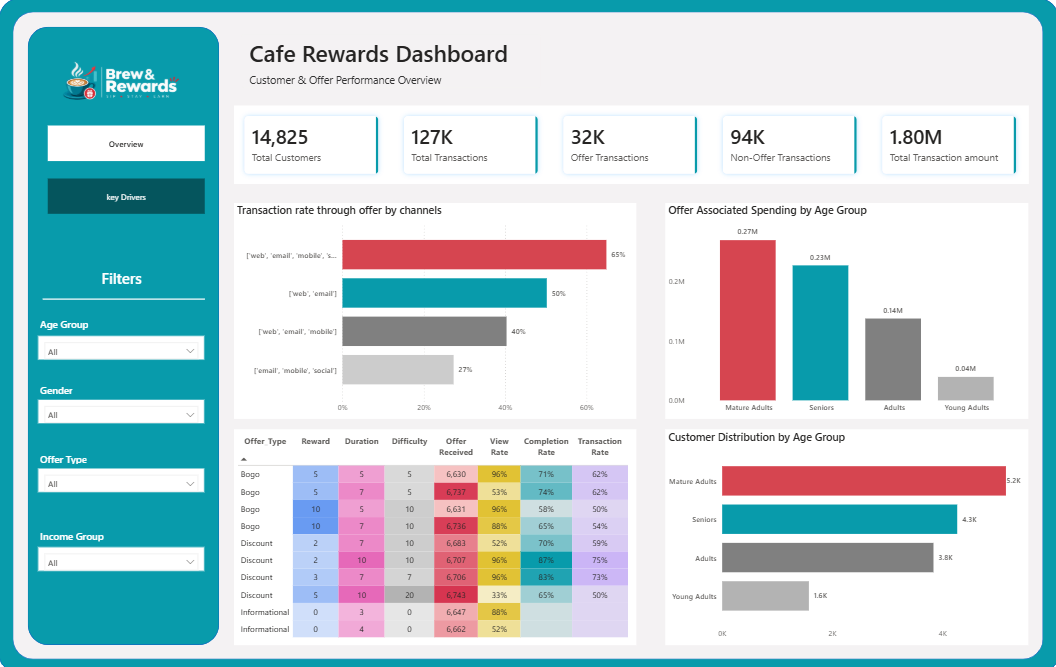

This screenshot's page, from the dashboard's own definition file:
{"tool":"powerbi","page":{"name":"key Drivers","canvas":[1800,1200],"ordinal":1},"visuals":[{"type":"shape","box":[48,48,1728,1104],"z":0},{"type":"shape","box":[72,72,1680,1056],"z":1000},{"type":"cardVisual","fields":{"Data":["customers.consumers","Table.Total Transactions","Table.Offer Attribute Transaction","Table.Non offer transaction","Sum(events_final.Transaction_amount)"]},"box":[432,224,1296,128],"z":2000},{"type":"cardVisual","fields":{"Data":["Table.DASHBOARD TITLE"]},"box":[432,96,512,112],"z":3000},{"type":"tableEx","fields":{"Values":["offers.offer_type","offers.reward","offers.duration","offers.difficulty","Table.Offer Received","Table.View Rate","Table.Completion Rate","Table.Transaction rate through offer"]},"box":[432,752,656,352],"z":4000},{"type":"clusteredColumnChart","title":"Offer Associated Spending by Age Group","fields":{"Category":["customers.Age Bands"],"Y":["Table.Amount from transaction offer"]},"box":[1136,384,592,352],"z":5000},{"type":"barChart","fields":{"Category":["offers.channels"],"Y":["Table.Transaction rate through offer"]},"box":[432,384,656,352],"z":6000},{"type":"barChart","title":"Customer Distribution by Age Group","fields":{"Category":["customers.Age Group"],"Y":["customers.consumers"]},"box":[1136,752,592,352],"z":7000},{"type":"shape","box":[96,96,312,1008],"z":8000},{"type":"slicer","fields":{"Values":["customers.Age Group"]},"box":[112,600,272,40],"z":9000},{"type":"slicer","fields":{"Values":["customers.gender"]},"box":[112,704,272,40],"z":10000},{"type":"slicer","fields":{"Values":["offers.offer_type"]},"box":[112,816,272,40],"z":11000},{"type":"slicer","fields":{"Values":["customers.Income Band"]},"box":[112,944,272,40],"z":12000},{"type":"pageNavigator","box":[128,256,256,144],"z":13000},{"type":"cardVisual","fields":{"Data":["Table.Heading 2"]},"box":[144,480,208,48],"z":14000},{"type":"shape","box":[120,528,264,24],"z":15000},{"type":"cardVisual","fields":{"Data":["Table.Slicer 1"]},"box":[104,560,168,32],"z":16000},{"type":"cardVisual","fields":{"Data":["Table.Slicer 2"]},"box":[104,672,88,24],"z":17000},{"type":"cardVisual","fields":{"Data":["Table.Slicer 3"]},"box":[104,784,216,24],"z":18000},{"type":"cardVisual","fields":{"Data":["Table.Slicer 4"]},"box":[104,912,128,24],"z":19000},{"type":"image","box":[112,144,272,80],"z":19001}]}

Visuals, with their boxes on the page's 1800x1200 design canvas (x1, y1, x2, y2). These are canvas units, not pixel positions in the 1056x667 screenshot, which may show the page scaled, cropped or inside an application window:
shape: <region>48, 48, 1776, 1152</region>
shape: <region>72, 72, 1752, 1128</region>
cardVisual - customers.consumers x Table.Total Transactions: <region>432, 224, 1728, 352</region>
cardVisual - Table.DASHBOARD TITLE: <region>432, 96, 944, 208</region>
tableEx - offers.offer_type x offers.reward: <region>432, 752, 1088, 1104</region>
"Offer Associated Spending by Age Group" clusteredColumnChart: <region>1136, 384, 1728, 736</region>
barChart - offers.channels x Table.Transaction rate through offer: <region>432, 384, 1088, 736</region>
"Customer Distribution by Age Group" barChart: <region>1136, 752, 1728, 1104</region>
shape: <region>96, 96, 408, 1104</region>
slicer - customers.Age Group: <region>112, 600, 384, 640</region>
slicer - customers.gender: <region>112, 704, 384, 744</region>
slicer - offers.offer_type: <region>112, 816, 384, 856</region>
slicer - customers.Income Band: <region>112, 944, 384, 984</region>
pageNavigator: <region>128, 256, 384, 400</region>
cardVisual - Table.Heading 2: <region>144, 480, 352, 528</region>
shape: <region>120, 528, 384, 552</region>
cardVisual - Table.Slicer 1: <region>104, 560, 272, 592</region>
cardVisual - Table.Slicer 2: <region>104, 672, 192, 696</region>
cardVisual - Table.Slicer 3: <region>104, 784, 320, 808</region>
cardVisual - Table.Slicer 4: <region>104, 912, 232, 936</region>
image: <region>112, 144, 384, 224</region>
